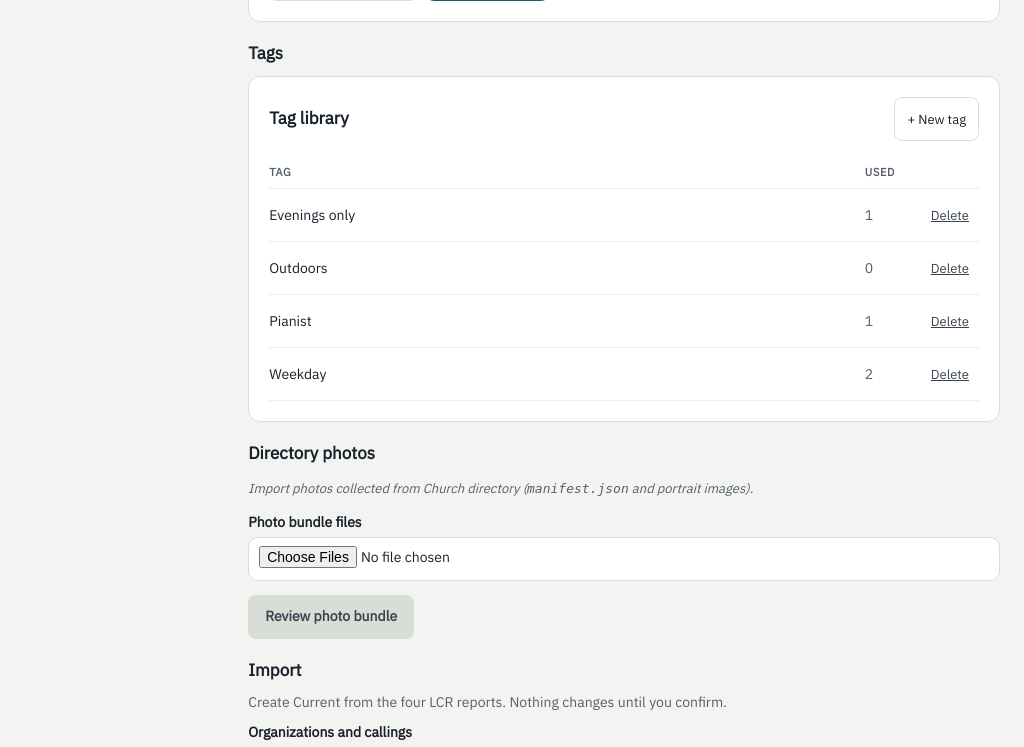
Settings Tags section › a ward push clears cached usage so the next open refetches
This screenshot has width=1024, height=747.
(page scrolled)
Click the button named "Delete Weekday" at (950, 374), box [921, 352, 979, 396]
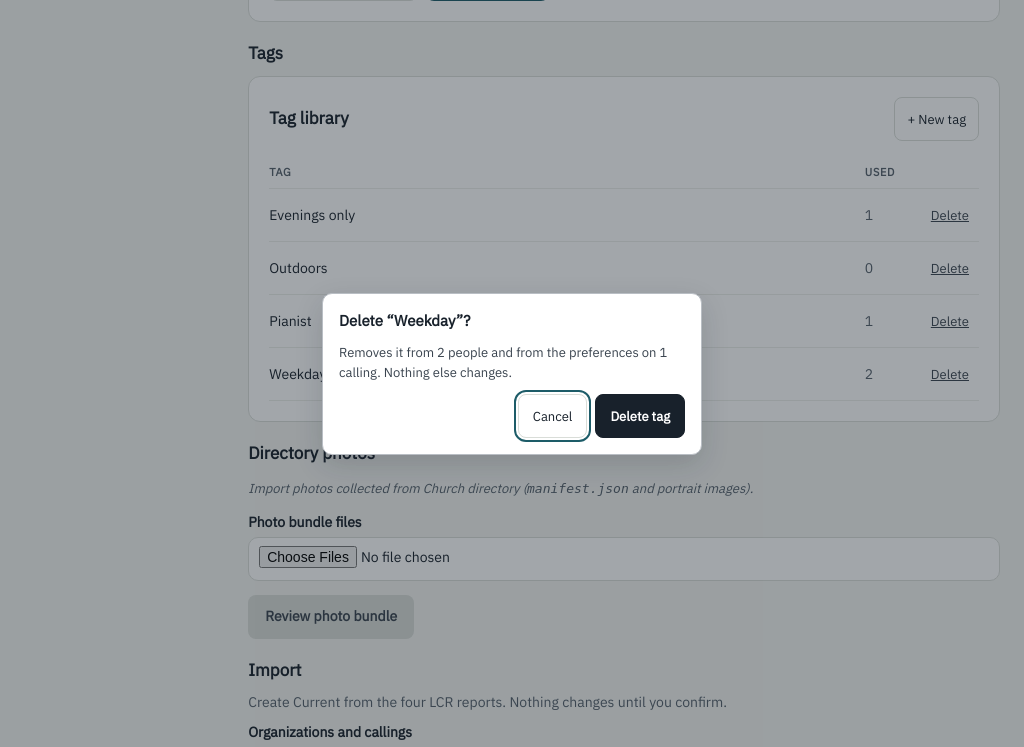
Check: the dialog shows "Removes it from 2 people", box [339, 344, 667, 380]
Click the button "Cancel" at (553, 416), box [518, 394, 587, 438]
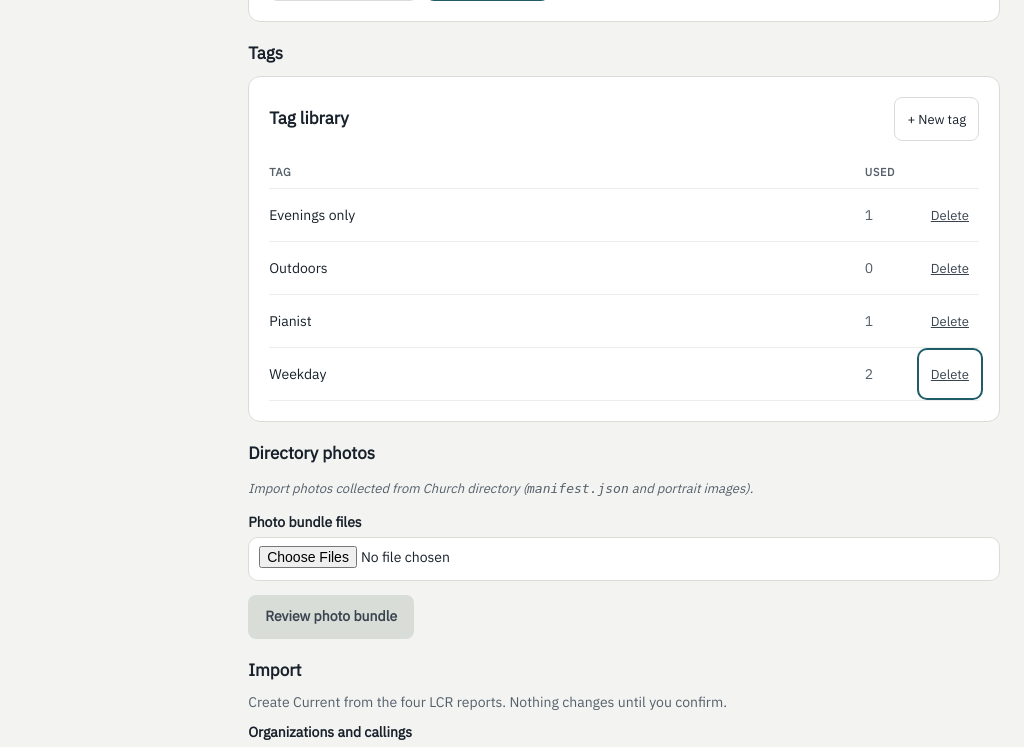
// Same ward, no push: the cached counts are reused instantly (still one fetch per open).
Click the button named "Delete Weekday" at (950, 374), box [921, 352, 979, 396]
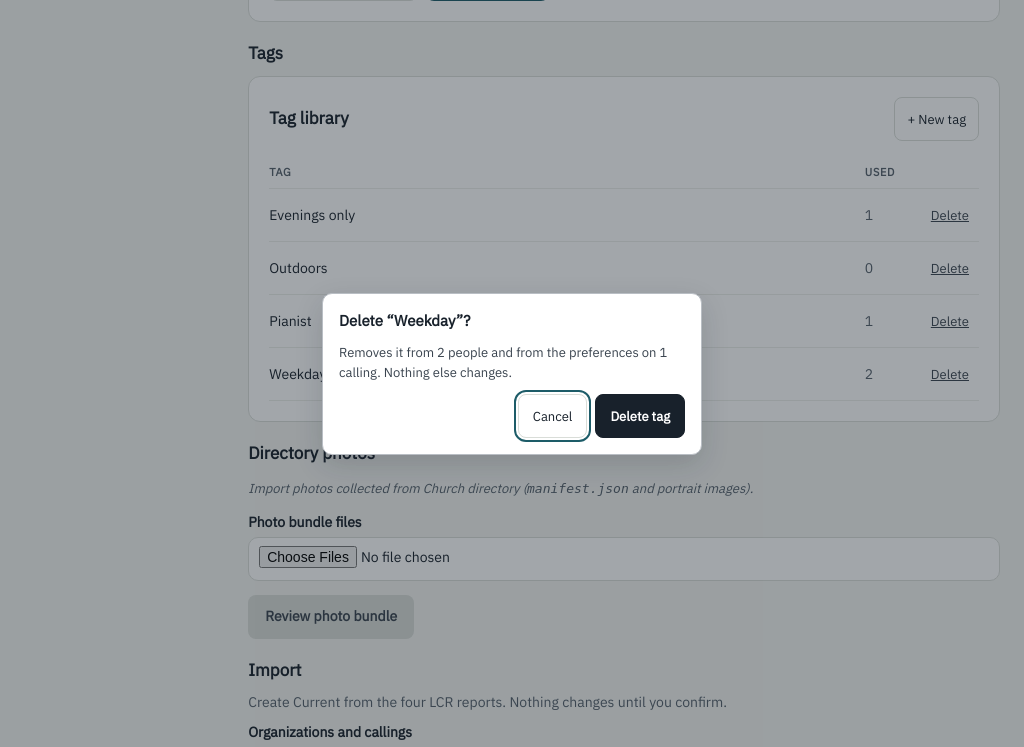
Check: the dialog shows "Removes it from 2 people", box [339, 344, 667, 380]
Click the button "Cancel" at (553, 416), box [518, 394, 587, 438]
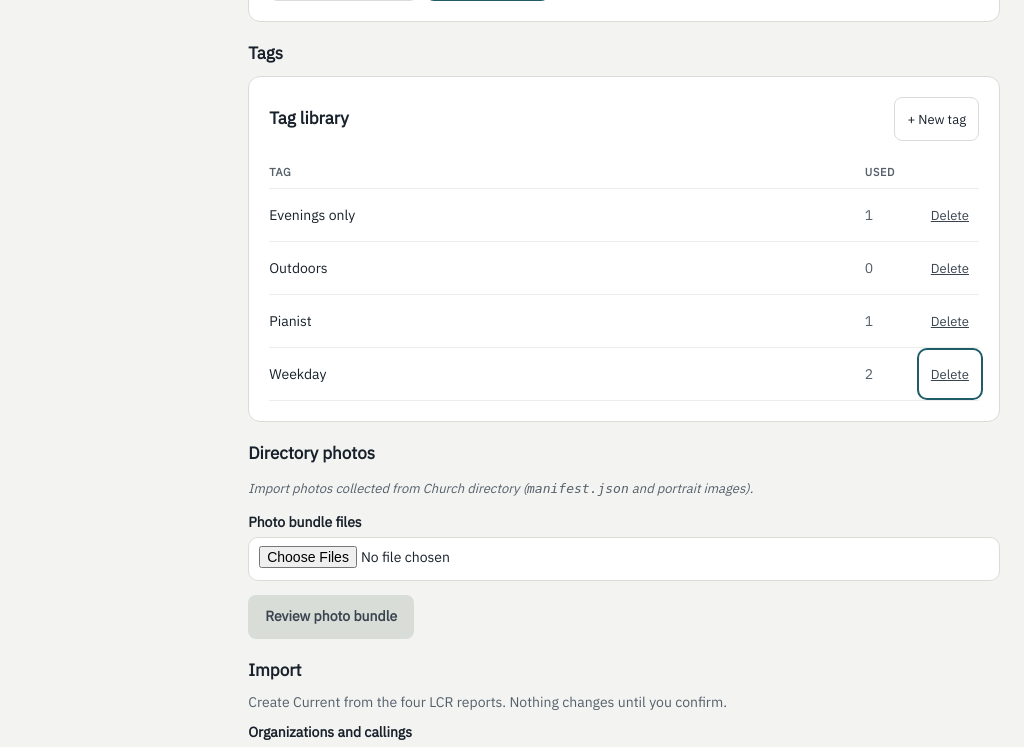
Click the button named "Delete Weekday" at (950, 374), box [921, 352, 979, 396]
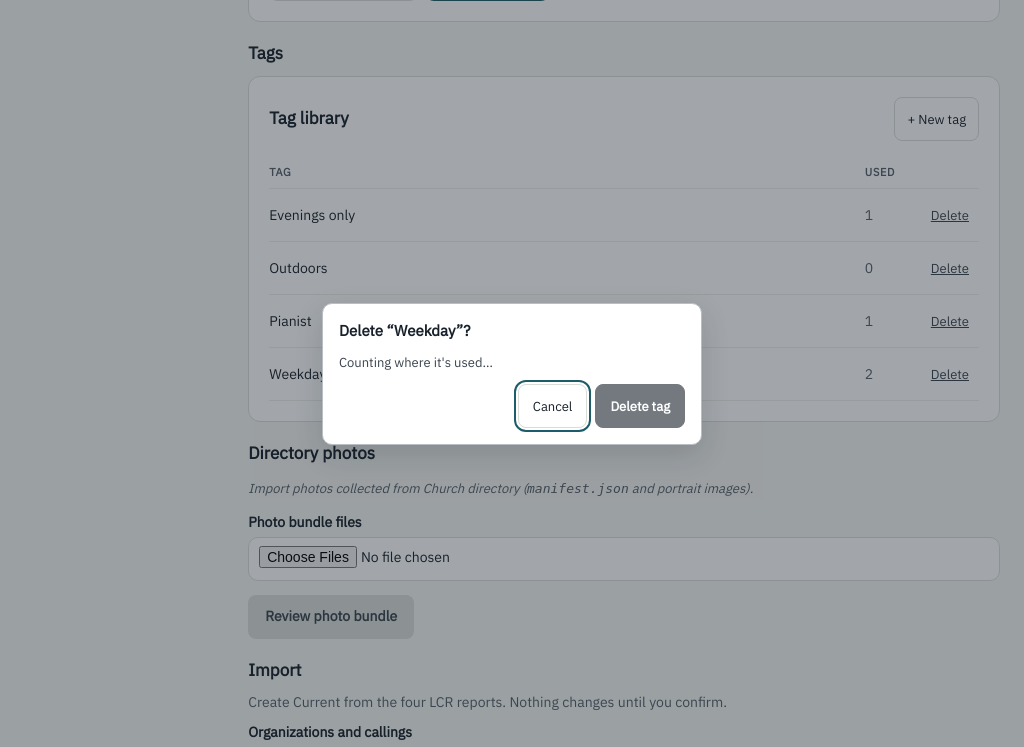
Check: the dialog shows "Counting where it's used…", box [339, 354, 493, 371]
